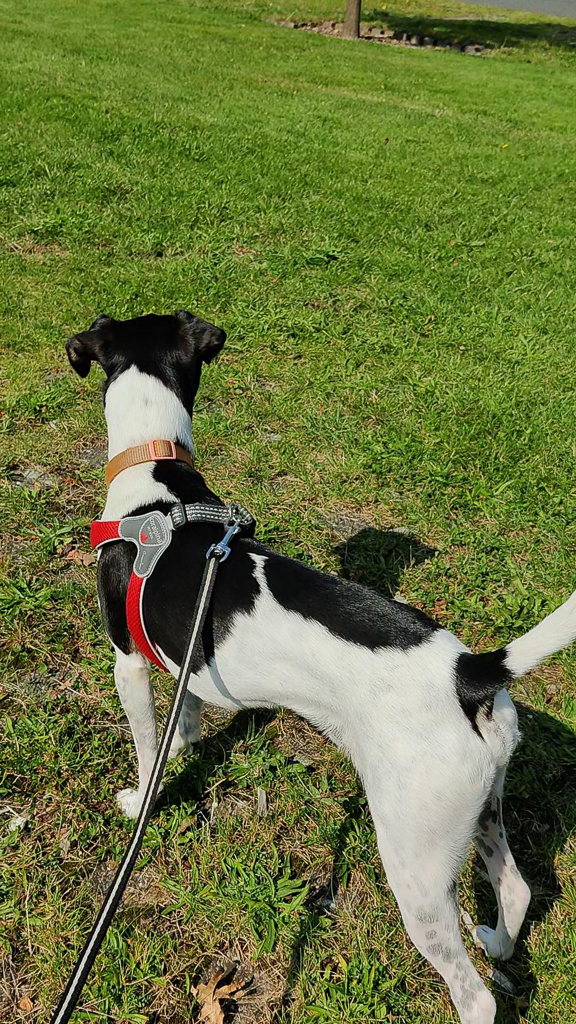Dog: (47, 298, 576, 1024)
